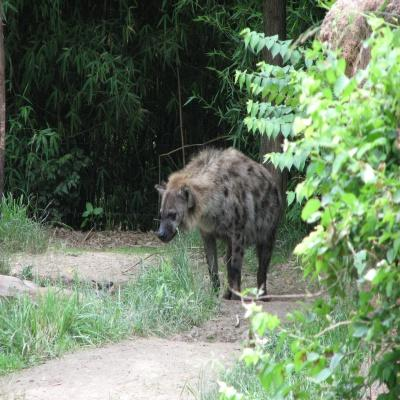hyenas: (147, 123, 299, 318)
